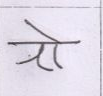e_matra: (24, 19, 63, 42)
